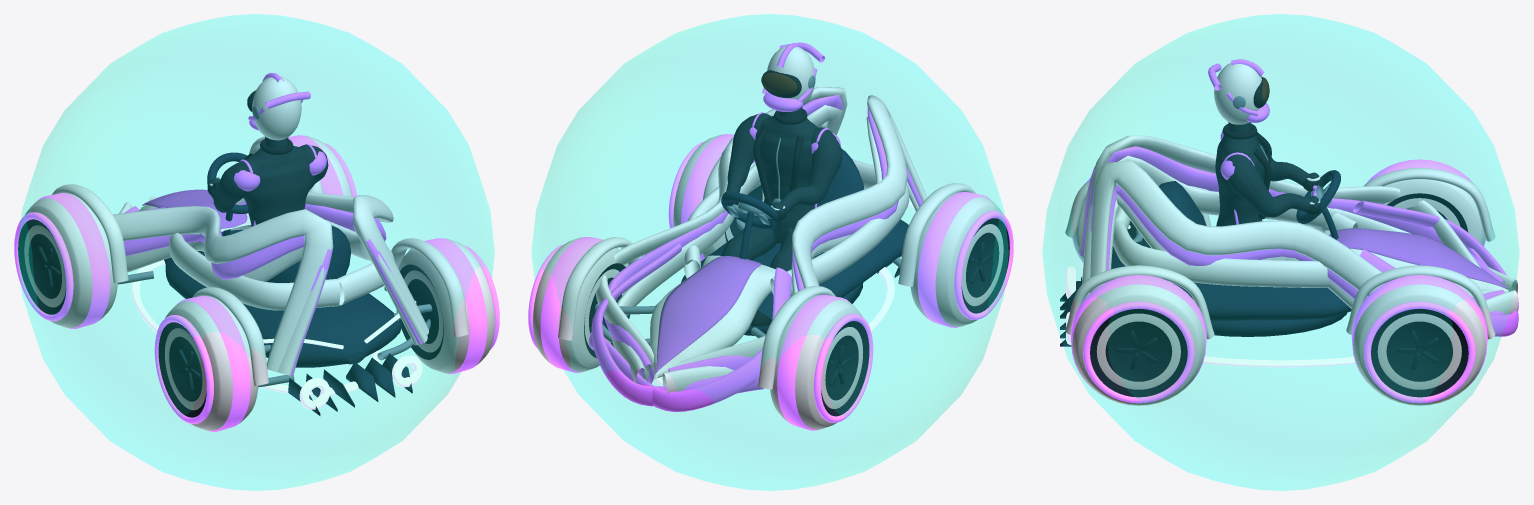
File: loom.glb
3 renders of one model, left to right at view 1: azimuth 30°, elevation 25°; view 2: azimuth 150°, elevation 25°; view 3: azimuth 270°, elevation 25°, orthographic.
Parts seen in each view (by area): view 1: loom:aegis-shield, loom:coachwork-batch.001, loom:coachwork-batch, loom:rounded-wheel-shell, loom:rounded-wheel-shell.002, loom:rounded-wheel-shell.003, loom:torso, loom:interlaced-body-ribbon, loom:translucent-tire-band.002, loom:translucent-tire-band, loom:translucent-tire-band.003, loom:recessed-colored-hub.002 (+16 smaller); view 2: loom:aegis-shield, loom:coachwork-batch.001, loom:bonnet-enamel-inlay, loom:torso, loom:coachwork-batch, loom:rounded-wheel-shell, loom:rounded-wheel-shell.002, loom:crossed-nose-ribbon.001, loom:rounded-wheel-shell.001, loom:crossed-nose-ribbon, loom:translucent-tire-band, loom:translucent-tire-band.002 (+19 smaller); view 3: loom:aegis-shield, loom:coachwork-batch.001, loom:coachwork-batch, loom:rounded-wheel-shell.001, loom:rounded-wheel-shell.003, loom:recessed-colored-hub.003, loom:recessed-colored-hub.001, loom:bonnet-enamel-inlay, loom:interlaced-body-ribbon, loom:interlaced-body-ribbon.001, loom:arm-r-mesh, loom:torso (+13 smaller).
Part boxes in pixels (x1=…): loom:aegis-shield: x1=17, y1=14, x2=494, y2=490; loom:coachwork-batch.001: x1=52, y1=136, x2=468, y2=385; loom:coachwork-batch: x1=164, y1=211, x2=412, y2=415; loom:rounded-wheel-shell: x1=24, y1=193, x2=117, y2=327; loom:rounded-wheel-shell.002: x1=165, y1=296, x2=258, y2=430; loom:rounded-wheel-shell.003: x1=398, y1=238, x2=494, y2=372; loom:torso: x1=244, y1=136, x2=313, y2=226; loom:interlaced-body-ribbon: x1=123, y1=206, x2=331, y2=375; loom:translucent-tire-band.002: x1=177, y1=296, x2=250, y2=431; loom:translucent-tire-band: x1=37, y1=193, x2=110, y2=328; loom:translucent-tire-band.003: x1=424, y1=238, x2=487, y2=374; loom:recessed-colored-hub.002: x1=158, y1=322, x2=206, y2=417; loom:aegis-shield: x1=531, y1=14, x2=1008, y2=490; loom:coachwork-batch.001: x1=558, y1=87, x2=975, y2=393; loom:bonnet-enamel-inlay: x1=656, y1=256, x2=761, y2=372; loom:torso: x1=721, y1=107, x2=817, y2=271; loom:coachwork-batch: x1=681, y1=149, x2=908, y2=335; loom:rounded-wheel-shell: x1=770, y1=295, x2=862, y2=429; loom:rounded-wheel-shell.002: x1=910, y1=192, x2=1003, y2=326; loom:crossed-nose-ribbon.001: x1=589, y1=267, x2=792, y2=411; loom:rounded-wheel-shell.001: x1=533, y1=237, x2=628, y2=371; loom:crossed-nose-ribbon: x1=591, y1=243, x2=763, y2=406; loom:translucent-tire-band: x1=777, y1=294, x2=850, y2=430; loom:translucent-tire-band.002: x1=917, y1=192, x2=991, y2=327; loom:aegis-shield: x1=1042, y1=14, x2=1519, y2=490; loom:coachwork-batch.001: x1=1065, y1=135, x2=1517, y2=339; loom:coachwork-batch: x1=1060, y1=181, x2=1351, y2=346; loom:rounded-wheel-shell.001: x1=1353, y1=284, x2=1486, y2=405; loom:rounded-wheel-shell.003: x1=1072, y1=284, x2=1205, y2=405; loom:recessed-colored-hub.003: x1=1090, y1=308, x2=1187, y2=397; loom:recessed-colored-hub.001: x1=1371, y1=308, x2=1468, y2=397; loom:bonnet-enamel-inlay: x1=1329, y1=228, x2=1508, y2=289; loom:interlaced-body-ribbon: x1=1080, y1=146, x2=1505, y2=282; loom:interlaced-body-ribbon.001: x1=1089, y1=184, x2=1504, y2=299; loom:arm-r-mesh: x1=1224, y1=150, x2=1319, y2=217; loom:torso: x1=1215, y1=122, x2=1264, y2=226.
Size of the model in its own units: 4.3 by 4.3 by 4.3.
